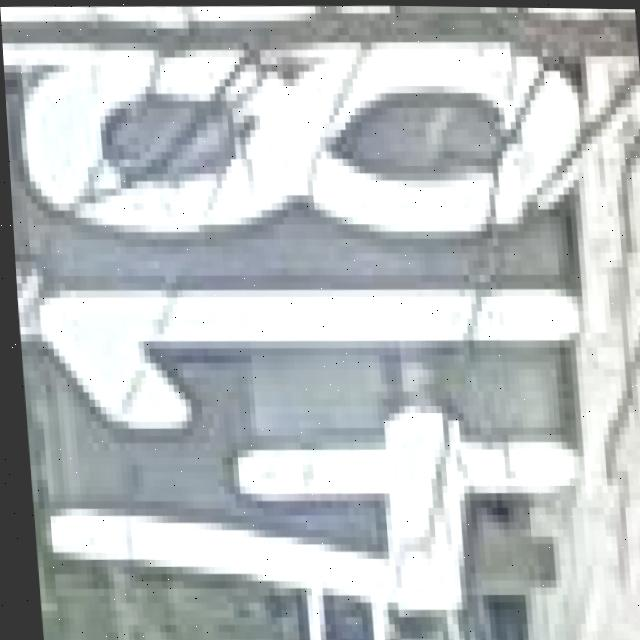character: (10, 22, 590, 253), (30, 385, 600, 620), (32, 262, 591, 437)
